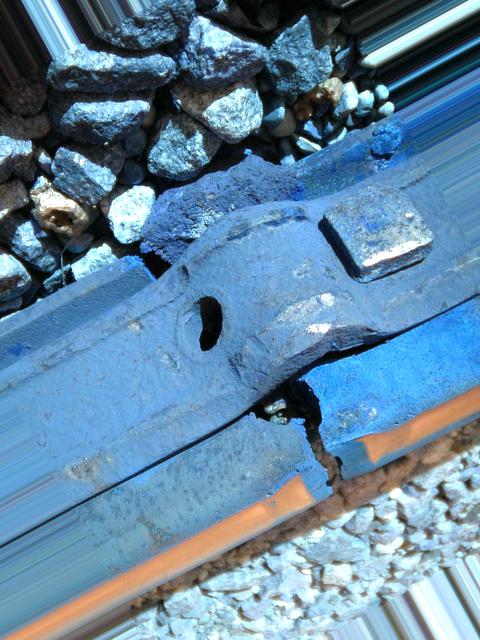tracks_fault: (135, 163, 439, 540)
